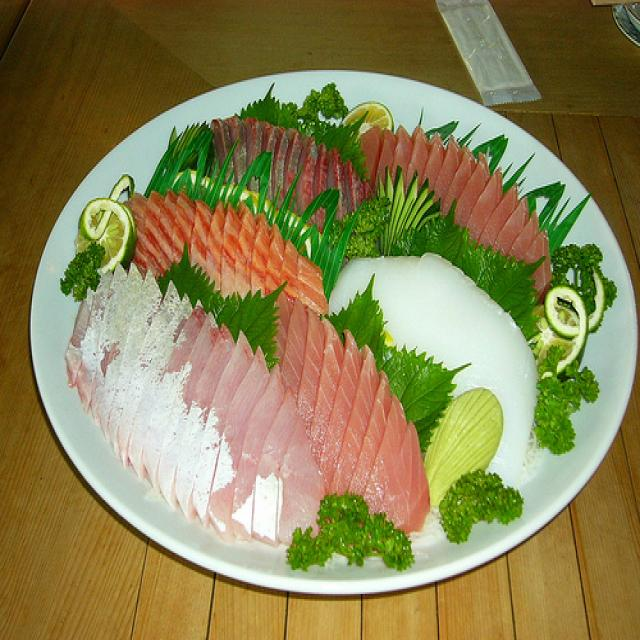刺身生食: (26, 43, 584, 606)
